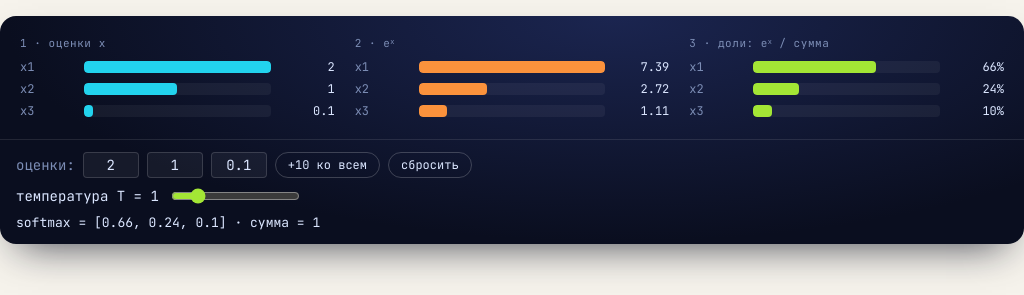
SoftmaxBars › does not change the shares when 10 is added to every score
The width and height of the screenshot is (1024, 295).
Click the button "+10 ко всем": {"x": 327, "y": 165} [275, 152, 380, 178]
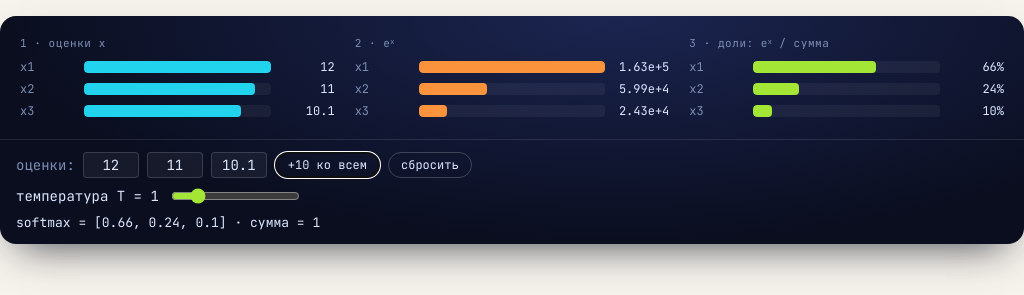
Expected: the text "softmax = [0.66, 0.24, 0.1] · сумма = 1" is shown, [16, 214, 320, 231]
Expected: the field named "оценка x1" holds "12", [83, 152, 139, 178]
